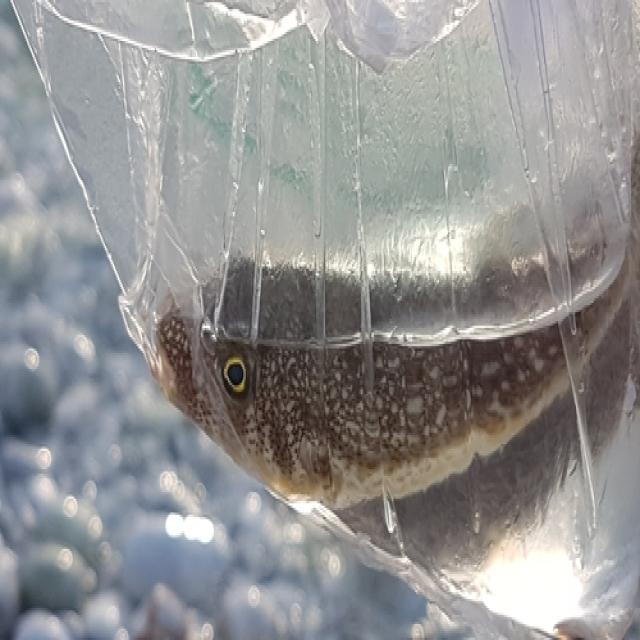Balik: (153, 267, 569, 507)
